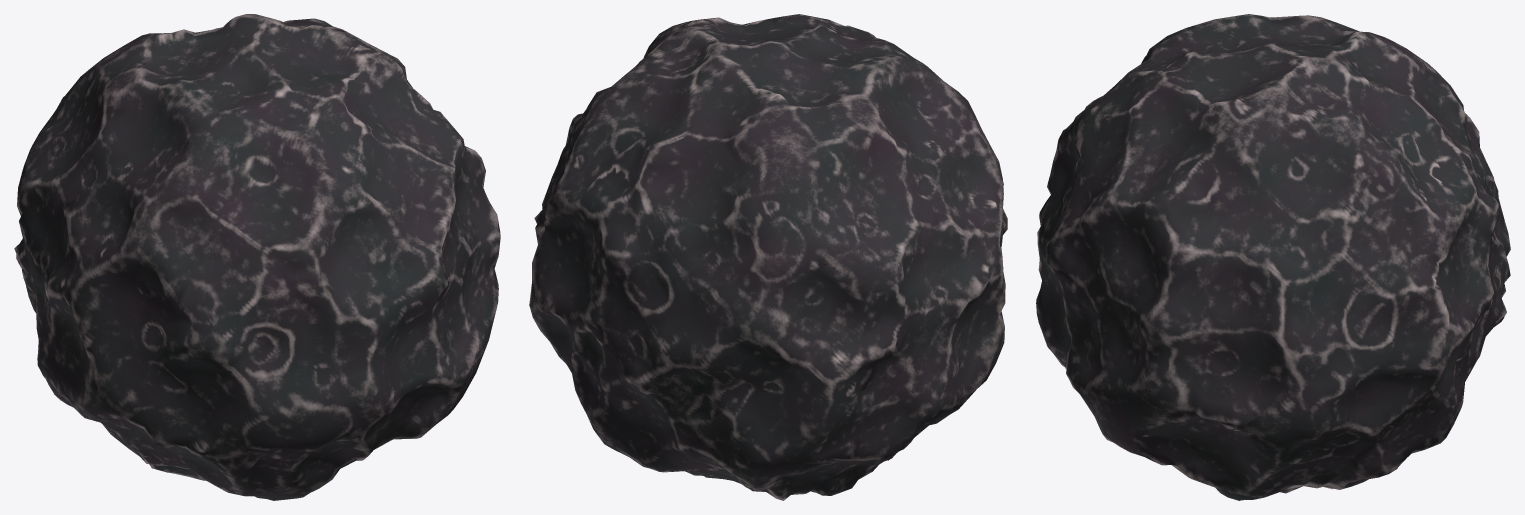
The picture shows the model from 3 angles, left to right: view 1: azimuth 30°, elevation 25°; view 2: azimuth 150°, elevation 25°; view 3: azimuth 270°, elevation 25°; orthographic projection.
Parts seen in each view (by area): view 1: 5.001; view 2: 5.001; view 3: 5.001.
Part boxes in pixels (<box>): 5.001: <box>14,14,500,500</box>; 5.001: <box>529,14,1007,500</box>; 5.001: <box>1036,14,1510,500</box>.
Bounding box in the file's own units: 13.47 × 13.39 × 13.24.
Materials: 1 (1 with a texture image).
